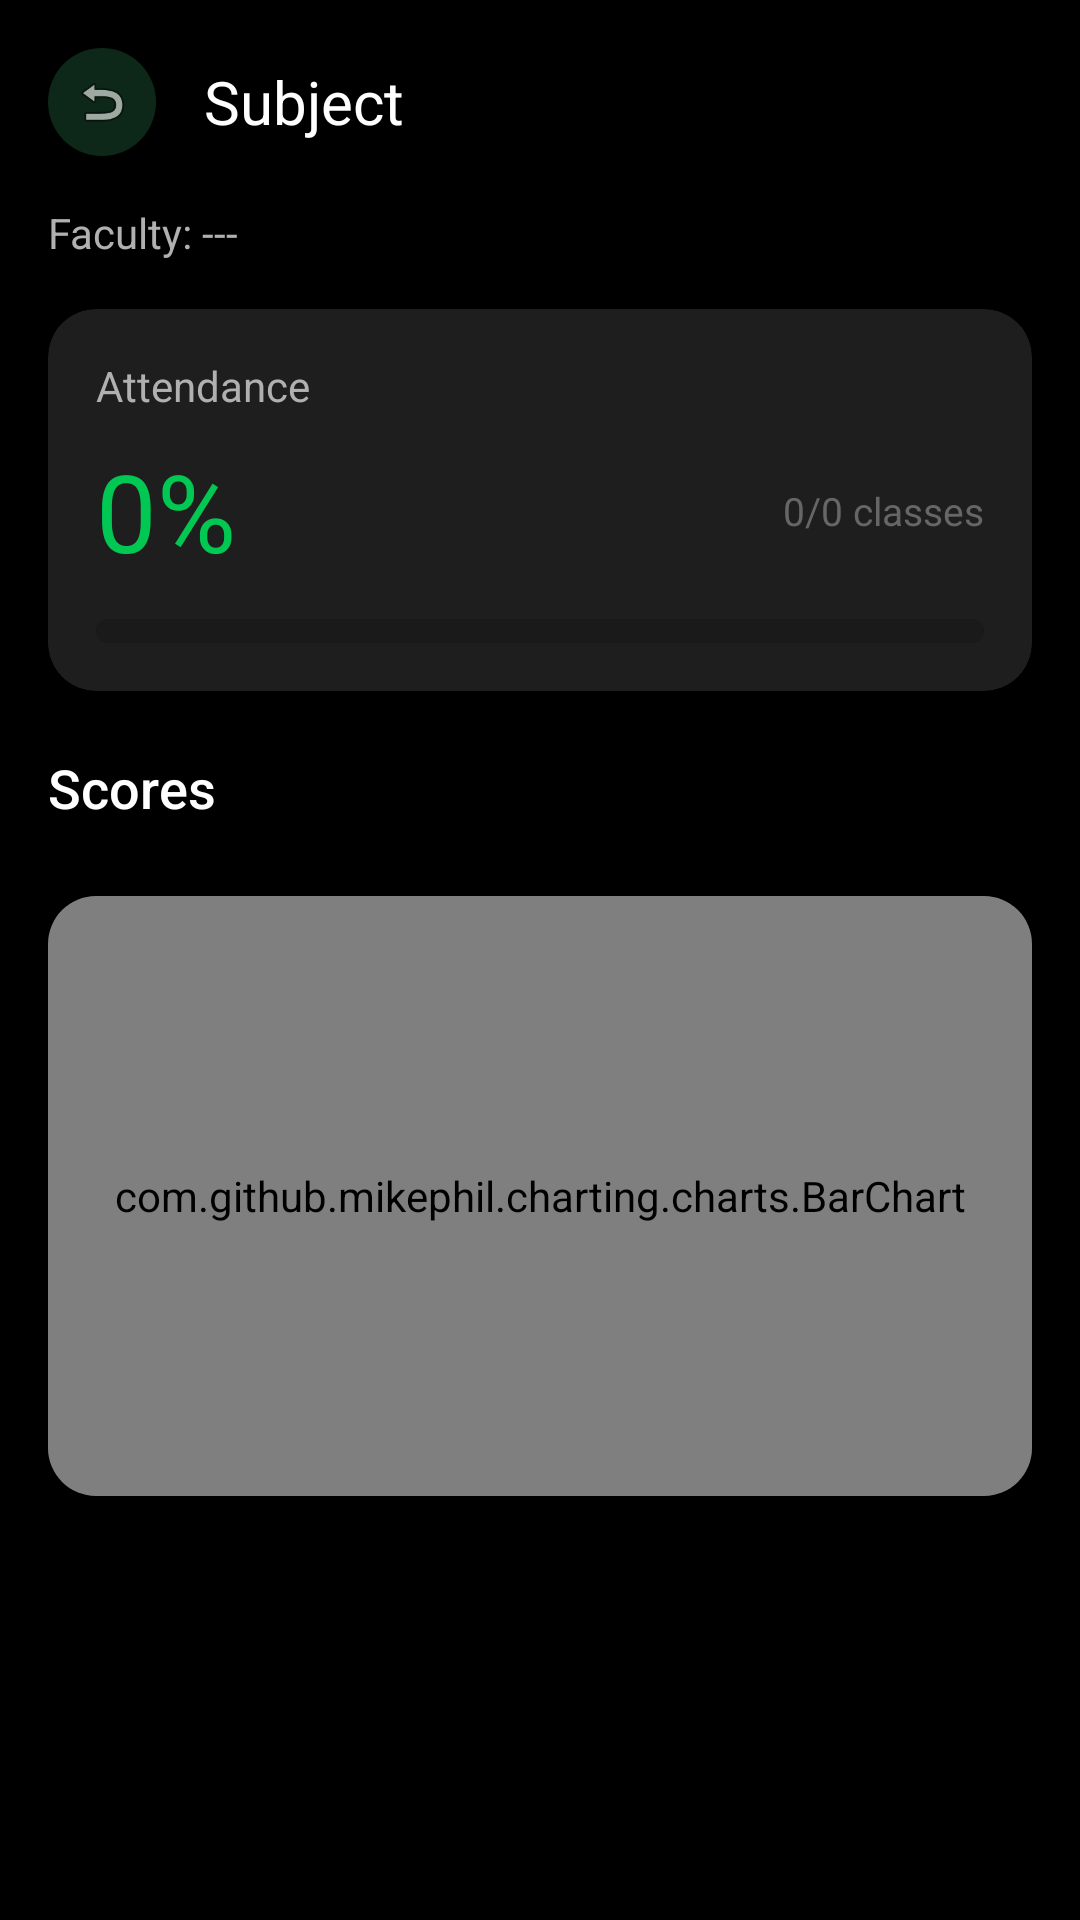

Point at icon controls on the screen. Image size 1080 x 1920, points as (x=x, y=y).
revert: (x=102, y=102)
